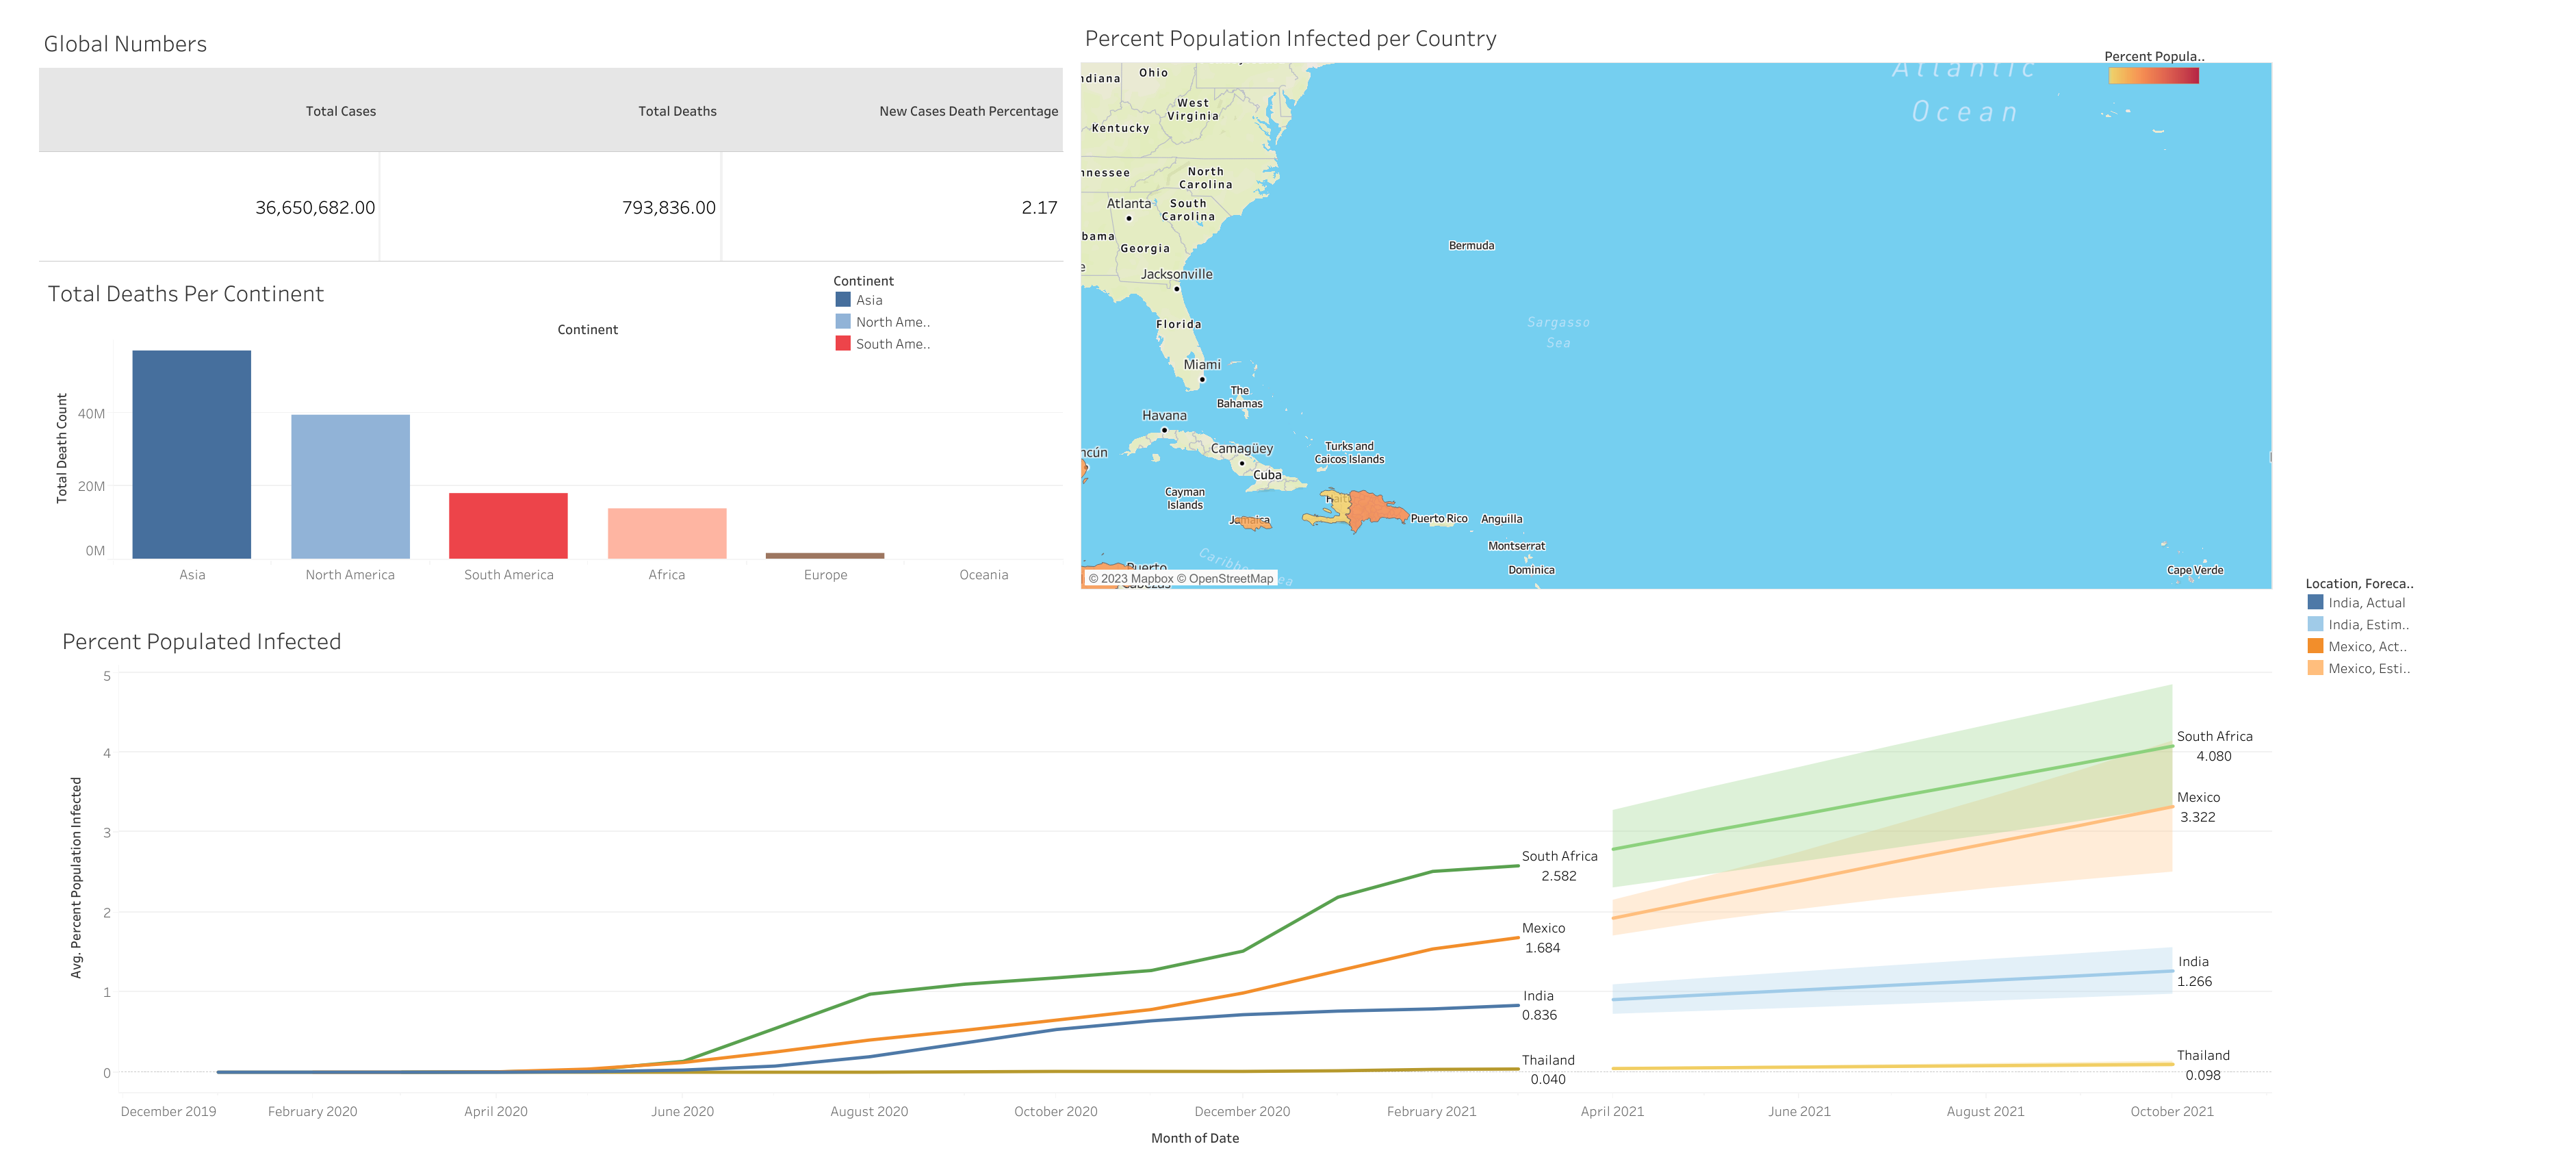

This screenshot's page, from the dashboard's own definition file:
{"tool":"tableau","page":{"name":"Dashboard 1","canvas":[1000,1000],"units":"permille","ordinal":0},"visuals":[{"type":"worksheet","title":"Sheet 3","mark":"Automatic","box":[419.1,13.6,463.2,496.6]},{"type":"worksheet","title":"Sheet 1","mark":"Automatic","box":[15.3,18.3,397.8,208.8]},{"type":"legend","title":"Sheet 3","param":"[federated.1f4ui1z1l2zt1p145arl60ulxav1].[sum:PercentPopulationInfected:qk]","box":[816.6,36.1,38.8,39.8]},{"type":"legend","title":"Sheet 2","param":"[federated.146pshq1kwtvi616bo8o50i3id0p].[none:continent:nk]","box":[322.9,231.8,38.8,72.2]},{"type":"worksheet","title":"Sheet 2","mark":"Automatic","rows":["TotalDeathCount"],"cols":["continent"],"box":[16.9,234.4,395.6,287.3]},{"type":"legend","title":"Sheet 4","param":"[federated.0qf1znb1evukup10zpk8g1ct3wyk].[none:location:nk]\n[federated.0qf1znb1e","box":[894.3,493.5,42.7,93.1]},{"type":"worksheet","title":"Sheet 4","mark":"Automatic","rows":["PercentPopulationInfected"],"cols":["date"],"box":[22.5,534.8,859.4,464.2]}]}

Visuals, with their boxes on the dashboard's canvas, which has no fixed pixel size, in thousandths of its width and height (x1, y1, x2, y2). These are canvas units, not pixel positions in the 2576x1155 screenshot, which may show the page scaled, cropped or inside an application window:
"Sheet 3" worksheet: region(419, 14, 882, 510)
"Sheet 1" worksheet: region(15, 18, 413, 227)
"Sheet 3" legend: region(817, 36, 855, 76)
"Sheet 2" legend: region(323, 232, 362, 304)
"Sheet 2" worksheet: region(17, 234, 412, 522)
"Sheet 4" legend: region(894, 494, 937, 587)
"Sheet 4" worksheet: region(22, 535, 882, 999)
